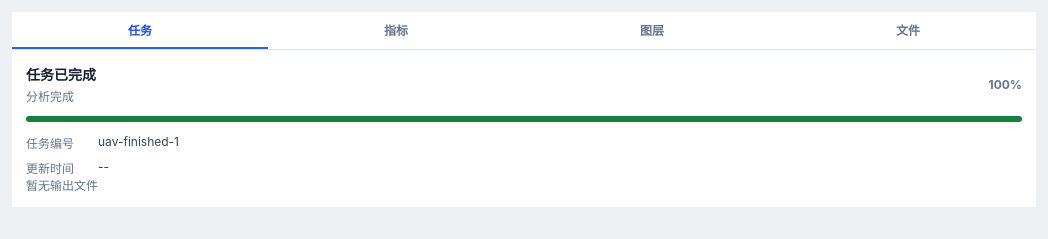
TaskResultPanel › isolates one failed GeoJSON layer without failing the task
The image size is (1048, 239).
Click the tab "图层" at (652, 30), box [524,12,780,49]
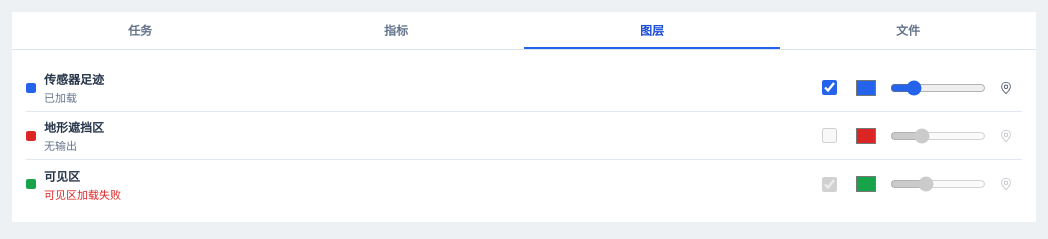
Now the text "可见区加载失败" is shown, box [44,188,121,202]
Now the text "传感器足迹" is shown, box [44,72,104,87]
